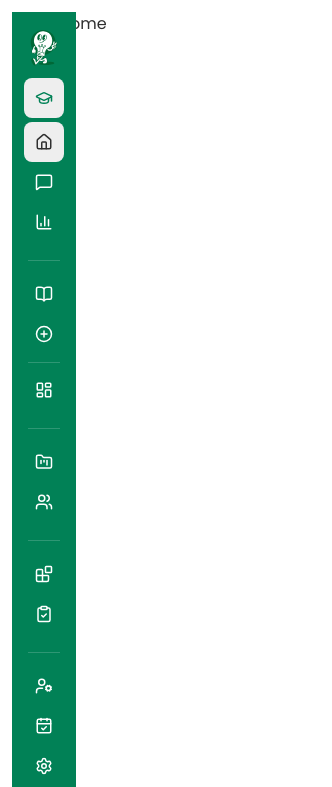
Test case: the rail › lets go after a keyboard navigation
Focus the 3rd button named "Messages" at (44, 182), box x1=24 y1=162 x2=64 y2=202
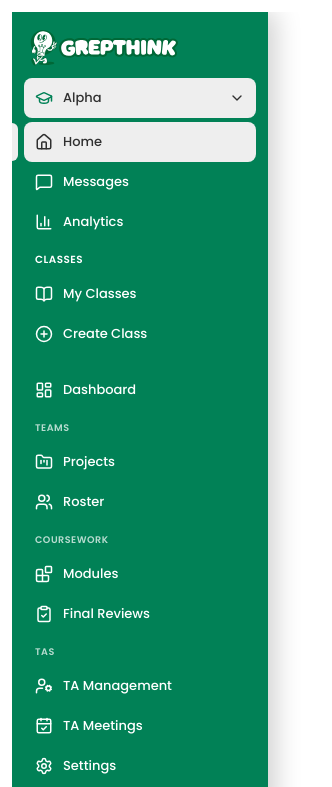
Click the button "Messages" at (140, 182), box x1=24 y1=162 x2=256 y2=202
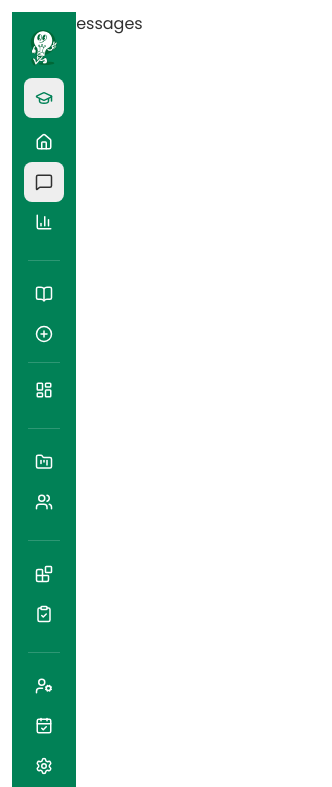
Expected: the text with test id "path" reads "/app/messages", x1=12 y1=12 x2=143 y2=35
